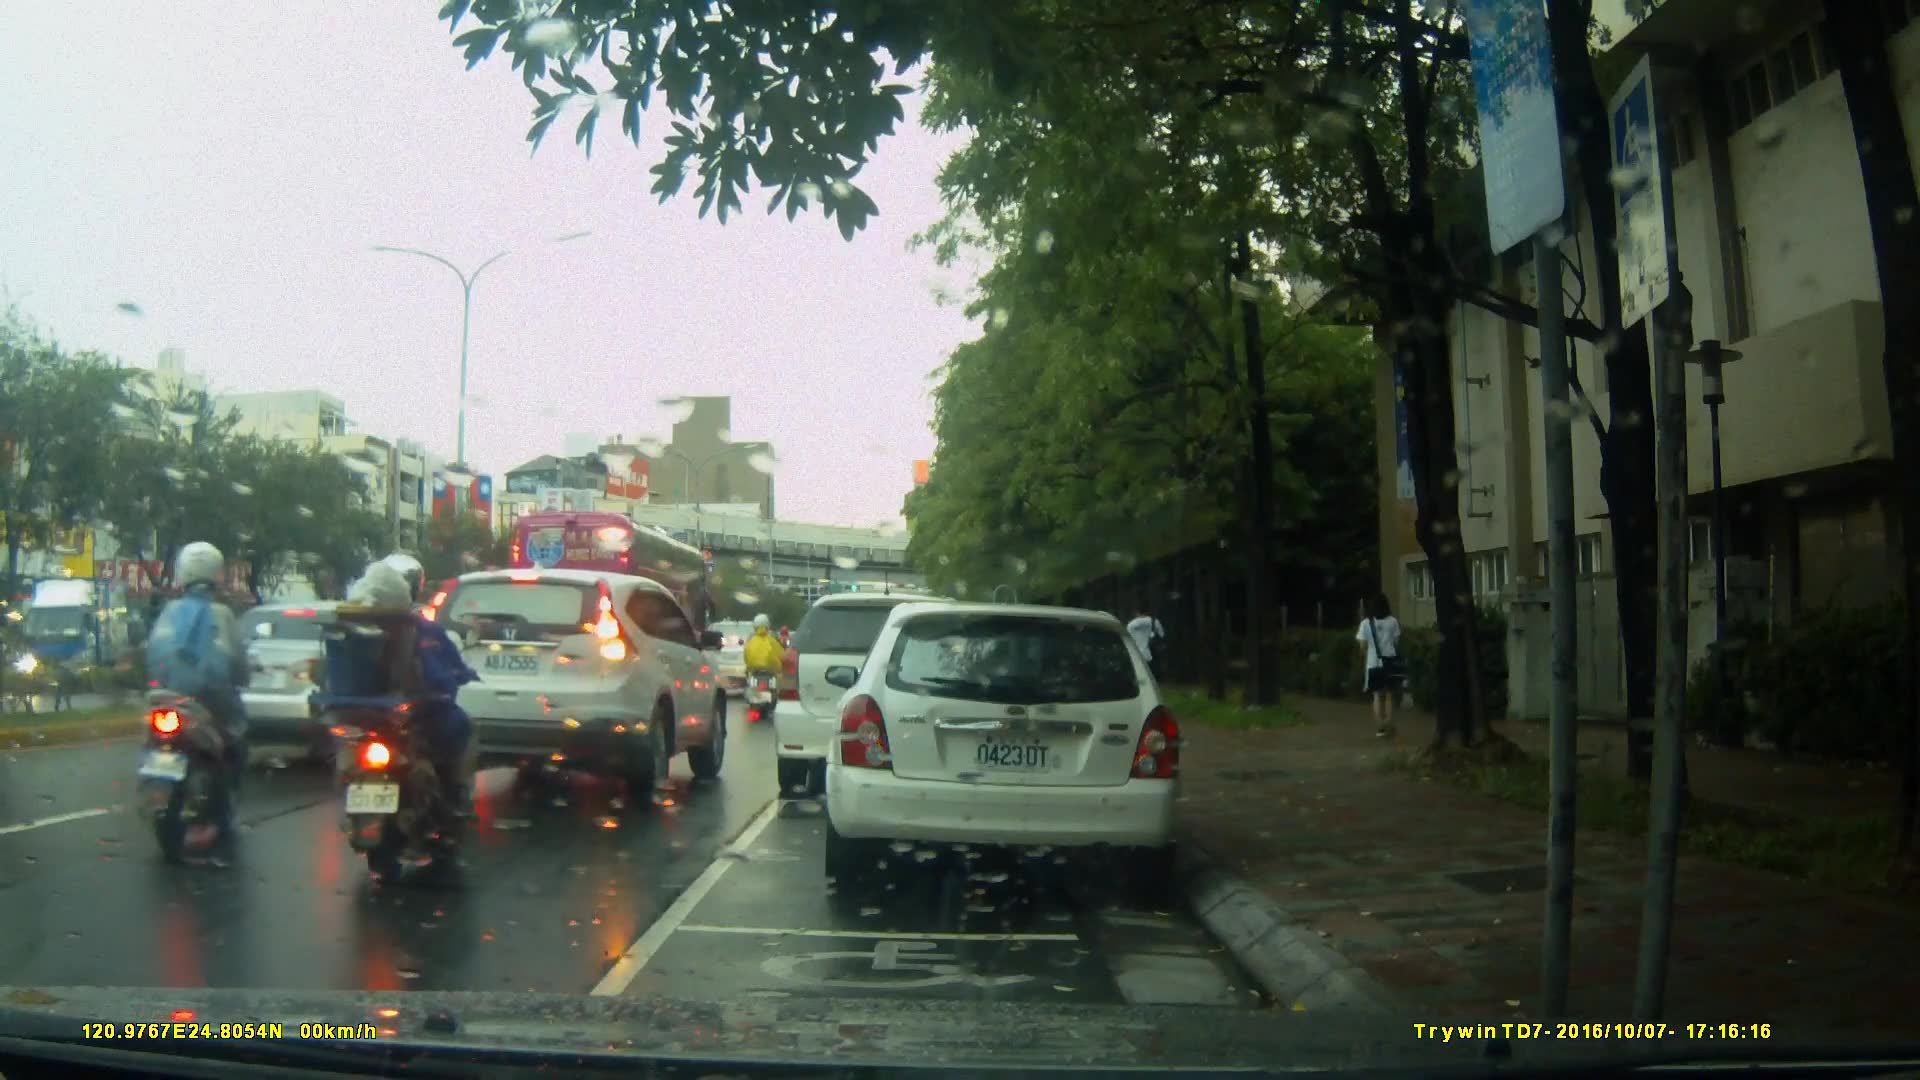pedestrian: (1347, 582, 1418, 756), (1124, 598, 1168, 702)
rider: (306, 547, 484, 874), (137, 542, 260, 850), (746, 613, 782, 718)
vehicle: (835, 594, 1194, 898), (425, 569, 740, 797), (776, 590, 1026, 784), (213, 592, 429, 740), (505, 507, 724, 650), (20, 573, 135, 686)
